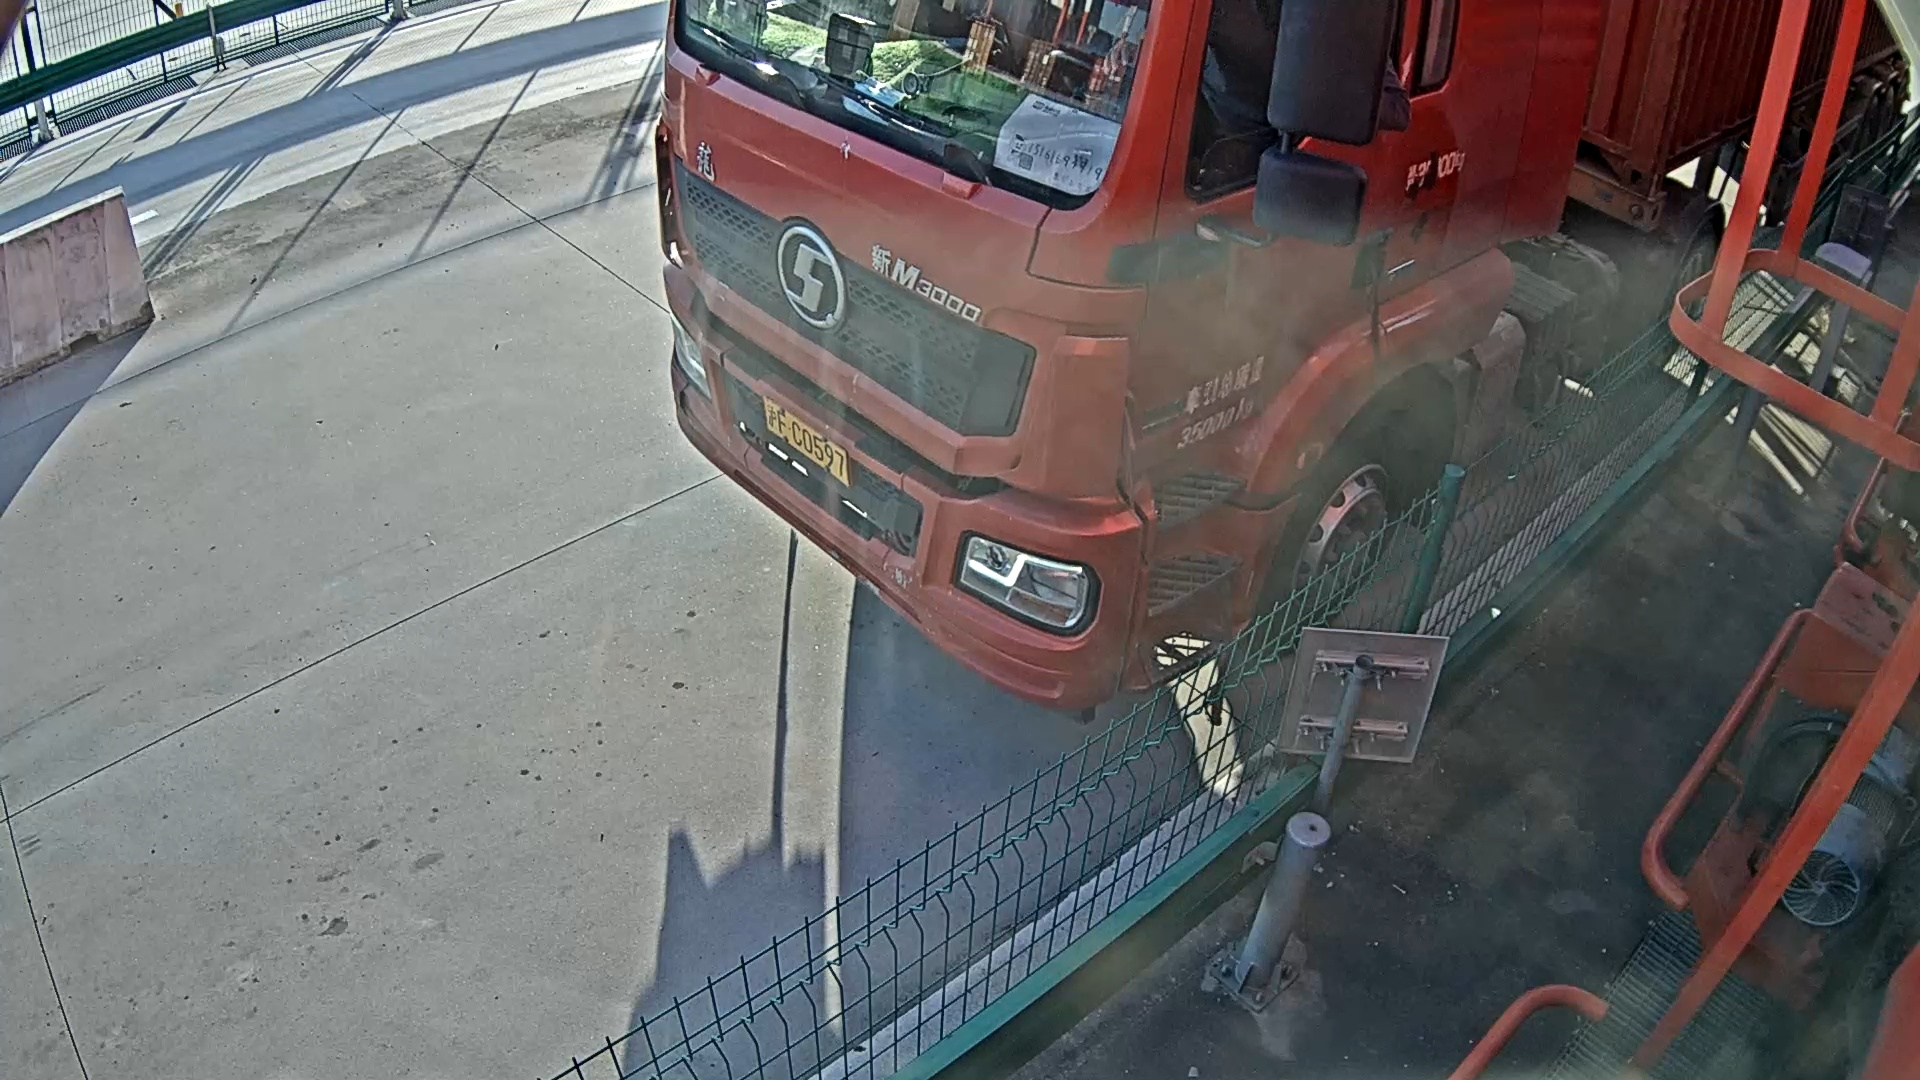head: (647, 5, 1277, 725)
plate: (758, 389, 851, 492)
